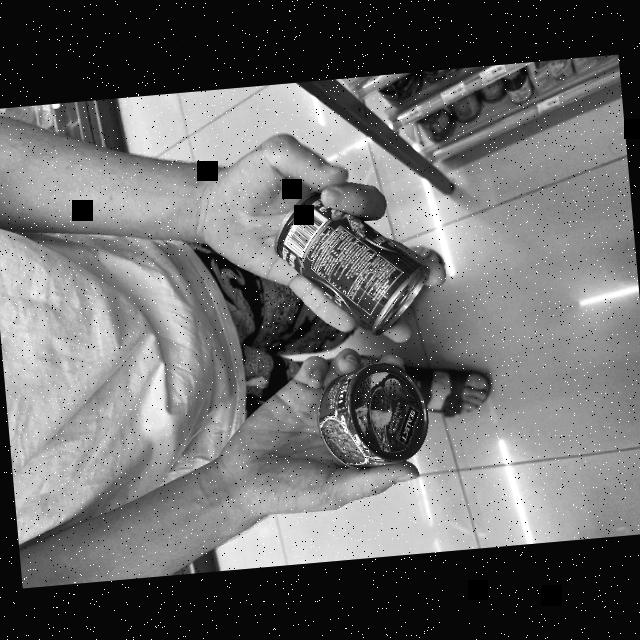can: (266, 186, 438, 354), (314, 352, 439, 477)
